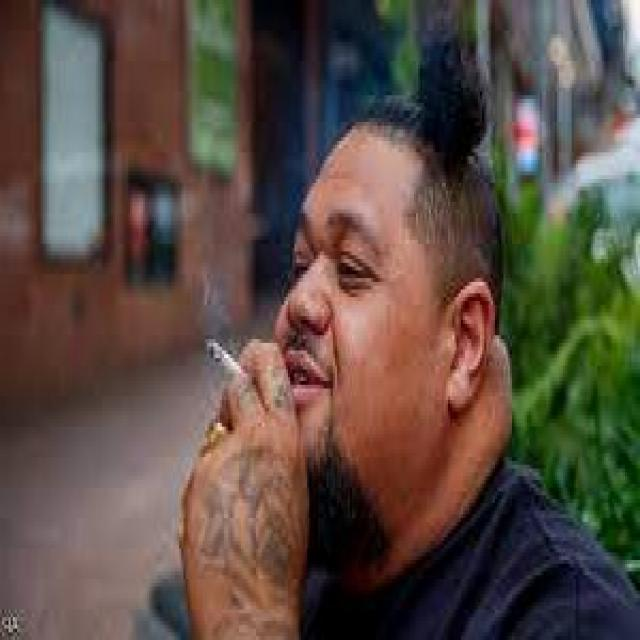cigarette: (198, 312, 308, 438)
